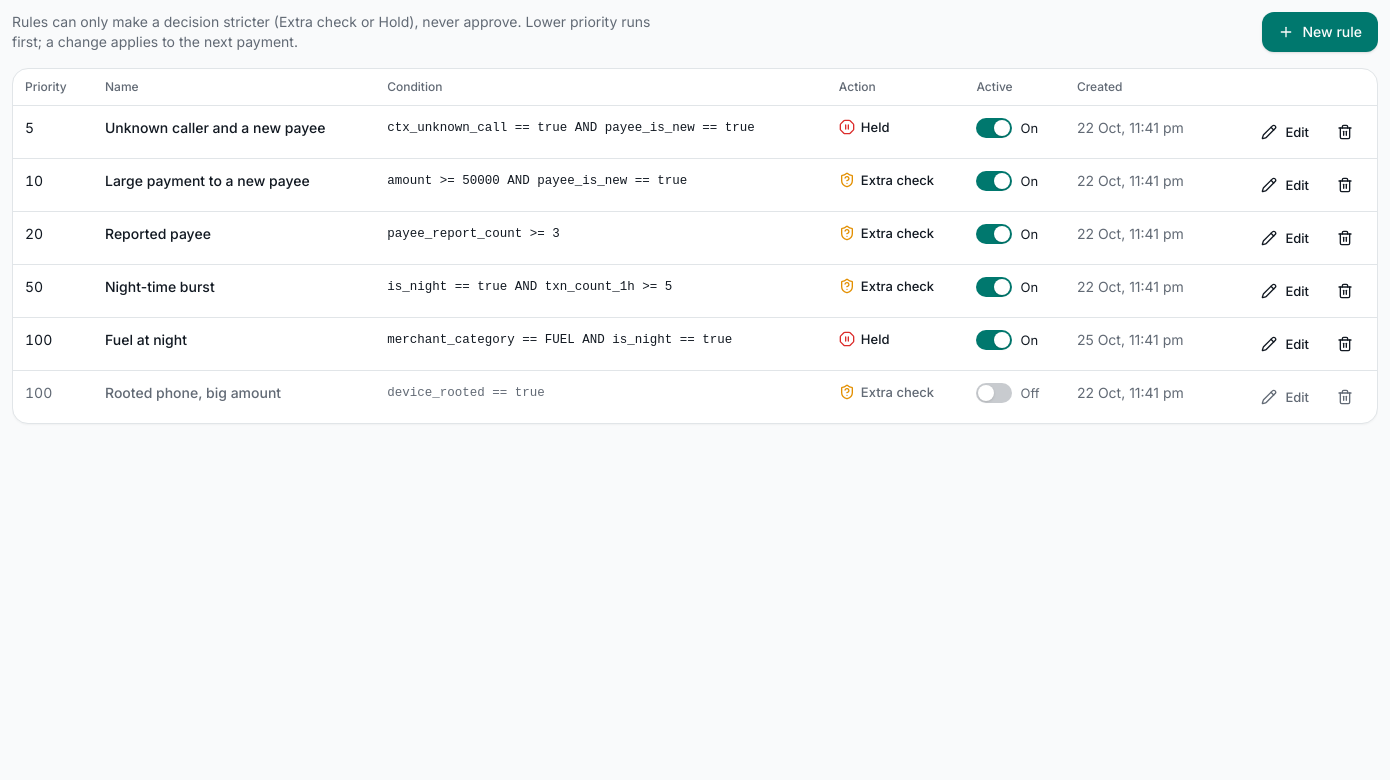
Test: Rules Manager (spec 06 §3, §4) › turns a rule off and deletes one after confirming
What coordinates should you click on to do the following:
click the switch named "Rule “Night-time burst” active"
I would click on:
 (1007, 287)
Its box is x1=976 y1=277 x2=1038 y2=297.
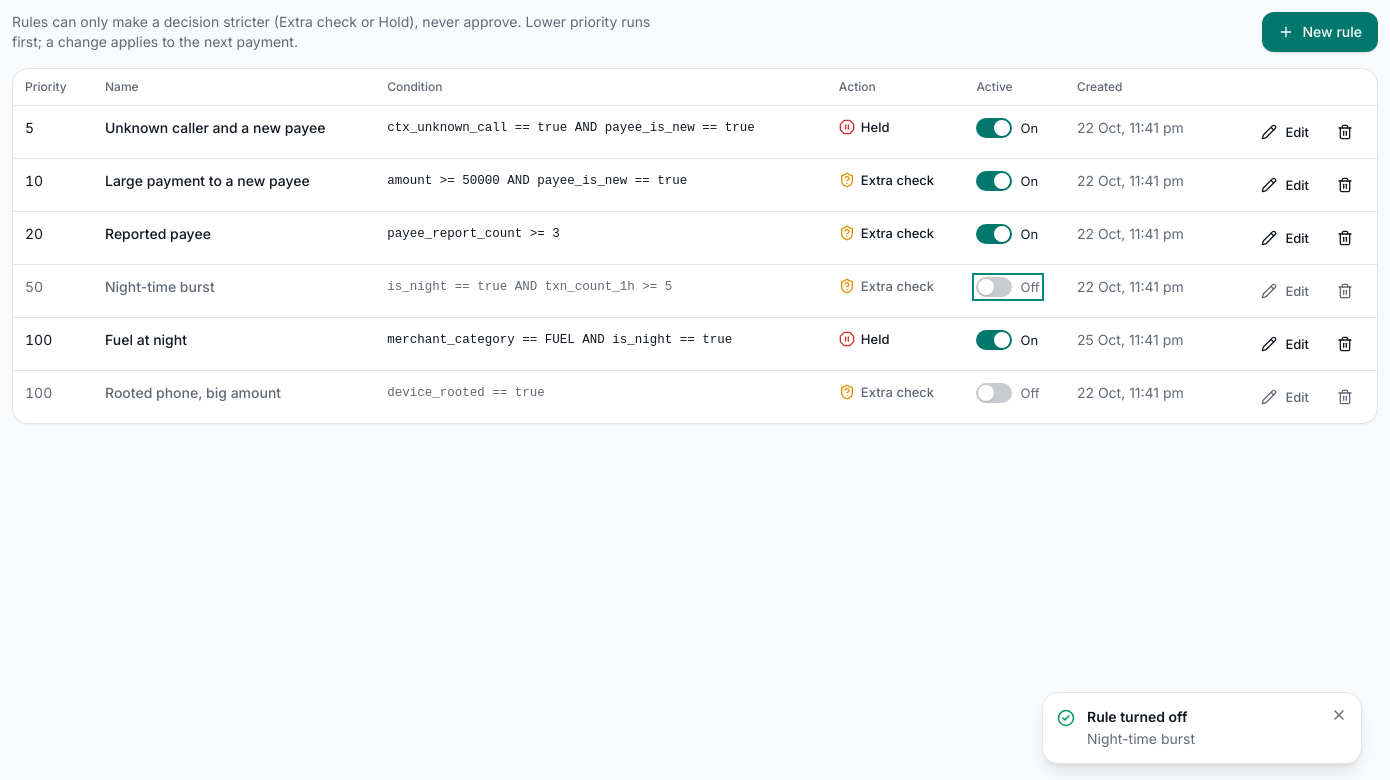
Check: the text "Rule turned off" is shown, box x1=1087 y1=708 x2=1187 y2=725
What coordinates should you click on to do the following:
click the button named "Delete rule “Rooted phone, big amount”"
I would click on:
 (1345, 397)
Its box is x1=1325 y1=379 x2=1365 y2=415.
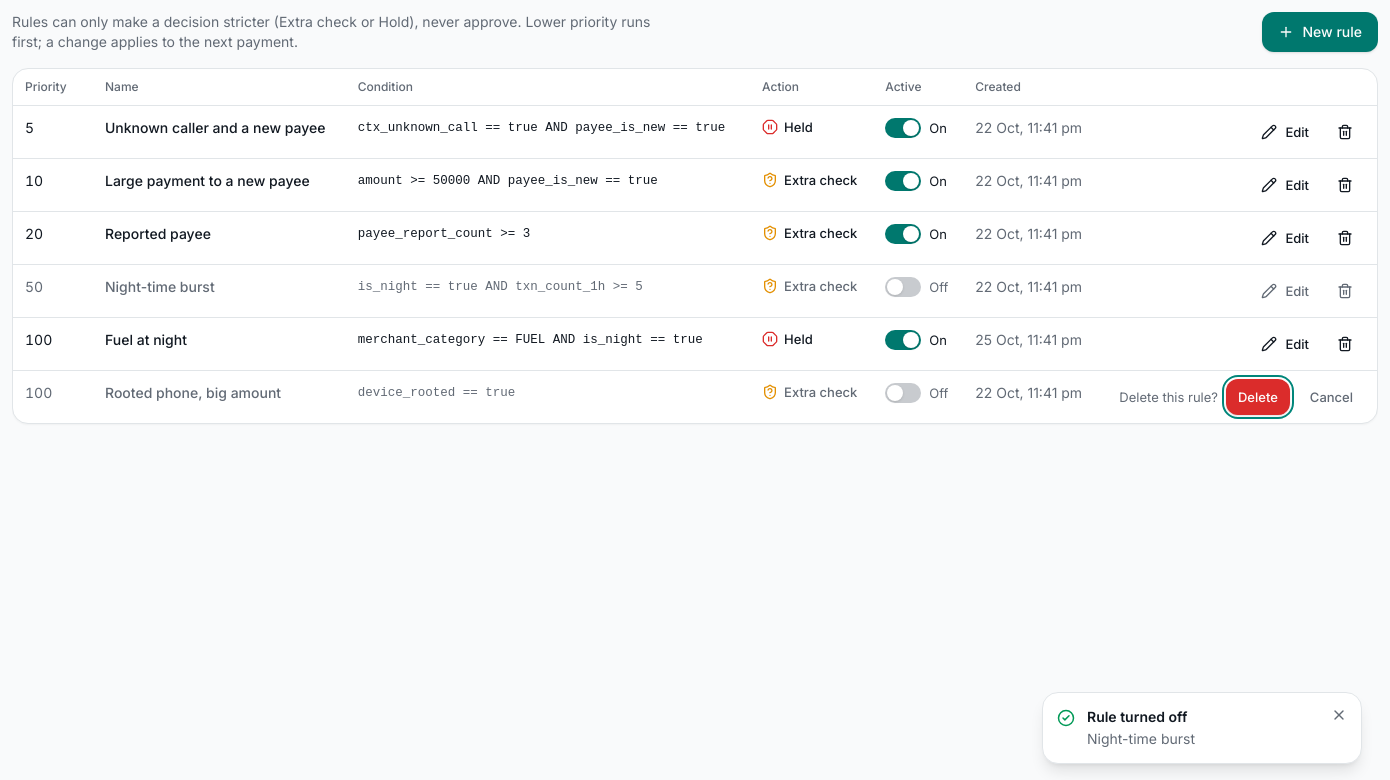
What coordinates should you click on to do the following:
click the button "Delete"
I would click on:
 (1258, 397)
Its box is x1=1226 y1=379 x2=1290 y2=415.
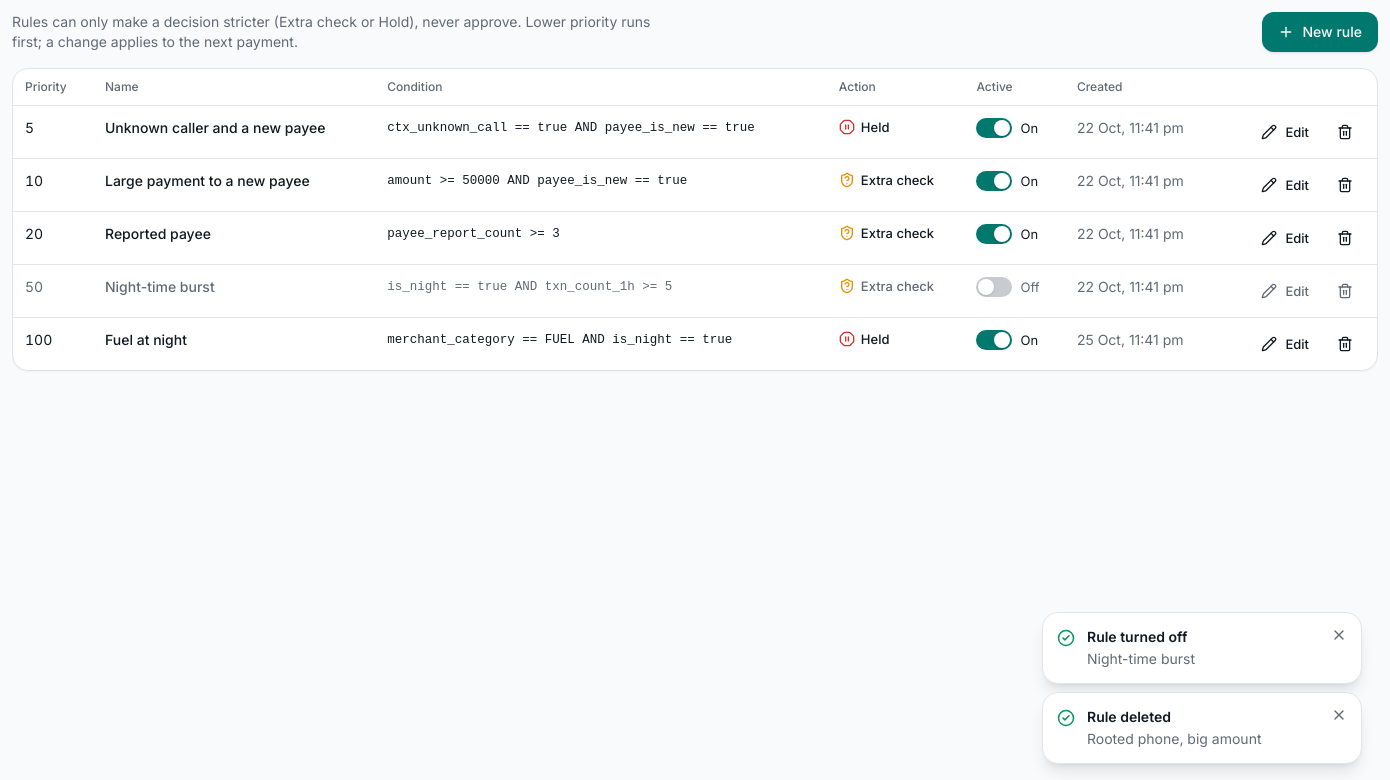
Check: the text "Rule deleted" is shown, box x1=1087 y1=708 x2=1171 y2=725
